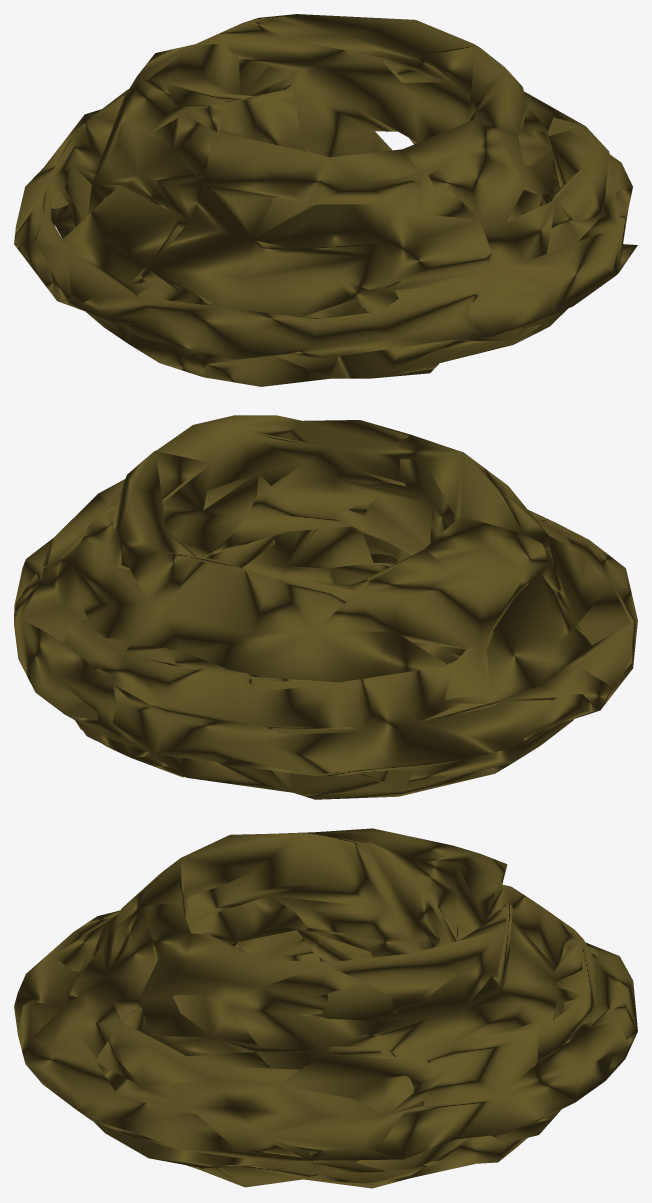
The model's file is gen3d-rope-coil-lod0.glb.
The picture shows the model from 3 angles, top to bottom: view 1: azimuth 30°, elevation 25°; view 2: azimuth 150°, elevation 25°; view 3: azimuth 270°, elevation 25°; orthographic projection. The views are drawn at different scales.
Parts seen in each view (by area): view 1: part_0; view 2: part_0; view 3: part_0.
Part boxes in pixels (left/top/right/bottom): part_0: left=14, top=14, right=637, bottom=386; part_0: left=14, top=415, right=637, bottom=799; part_0: left=14, top=828, right=637, bottom=1188.
Size of the model in its own units: 2.5 by 0.9962 by 2.5.
